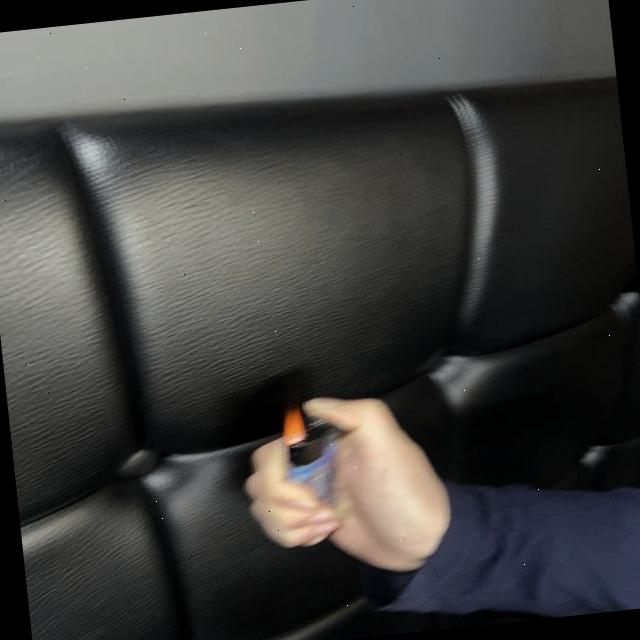fire: (280, 404, 310, 445)
